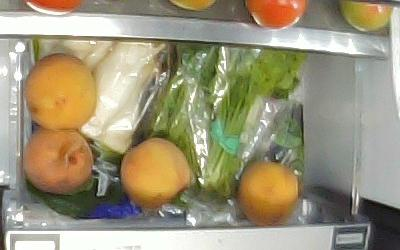peach: (25, 53, 96, 133), (120, 138, 191, 208), (21, 129, 93, 195), (237, 161, 298, 223)
